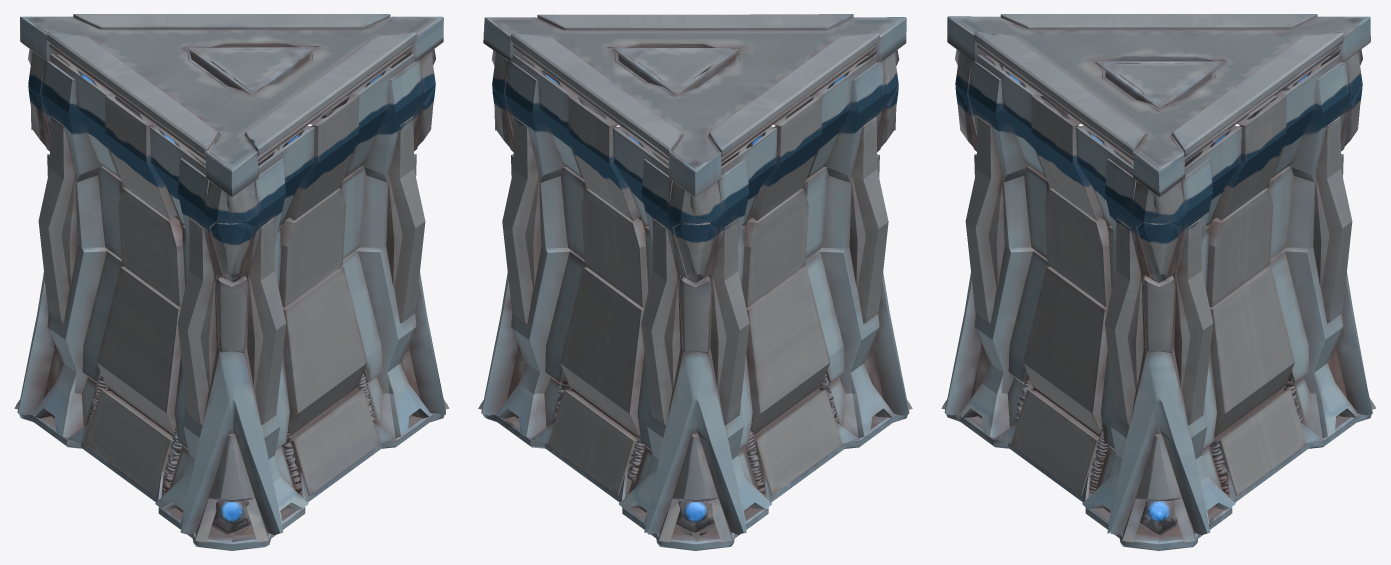
Rendered from BP_TriFoundation_Tek_C.glb.
3 renders of one model, left to right at view 1: azimuth 30°, elevation 25°; view 2: azimuth 150°, elevation 25°; view 3: azimuth 270°, elevation 25°, orthographic.
Parts seen in each view (by area): view 1: SM_Tek_FloorTriangle; view 2: SM_Tek_FloorTriangle; view 3: SM_Tek_FloorTriangle.
Part boxes in pixels (x1=…): SM_Tek_FloorTriangle: x1=14, y1=14, x2=449, y2=550; SM_Tek_FloorTriangle: x1=478, y1=14, x2=912, y2=550; SM_Tek_FloorTriangle: x1=941, y1=14, x2=1376, y2=550.
Size of the model in its own units: 2.83 by 3.04 by 3.09.
1 material, 1 textured.
